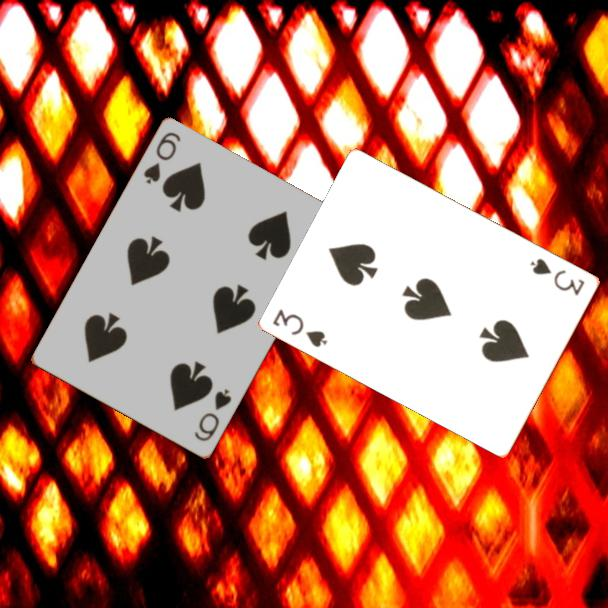s03: (269, 305, 330, 350), (527, 255, 588, 299)
s06: (191, 385, 235, 445), (140, 129, 184, 188)
